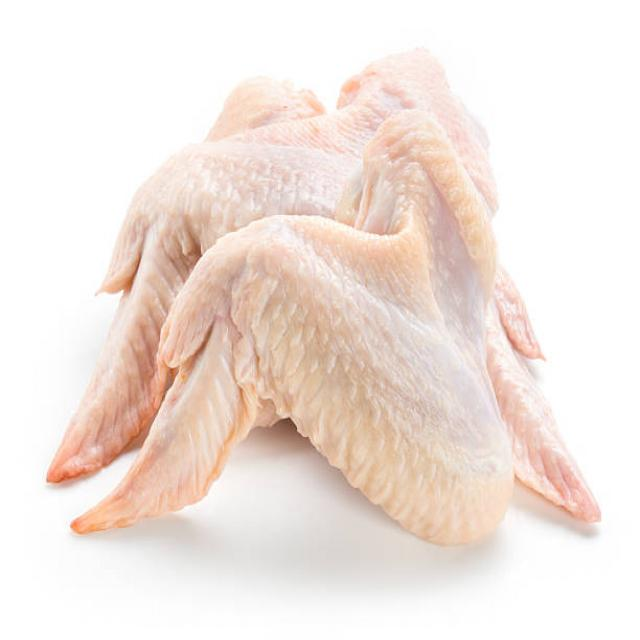Chicken Wing: (92, 191, 533, 557)
